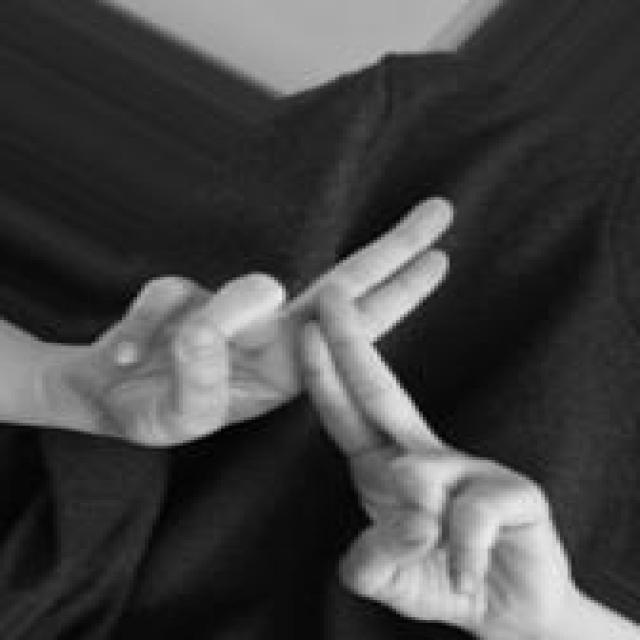K: (89, 188, 584, 640)
